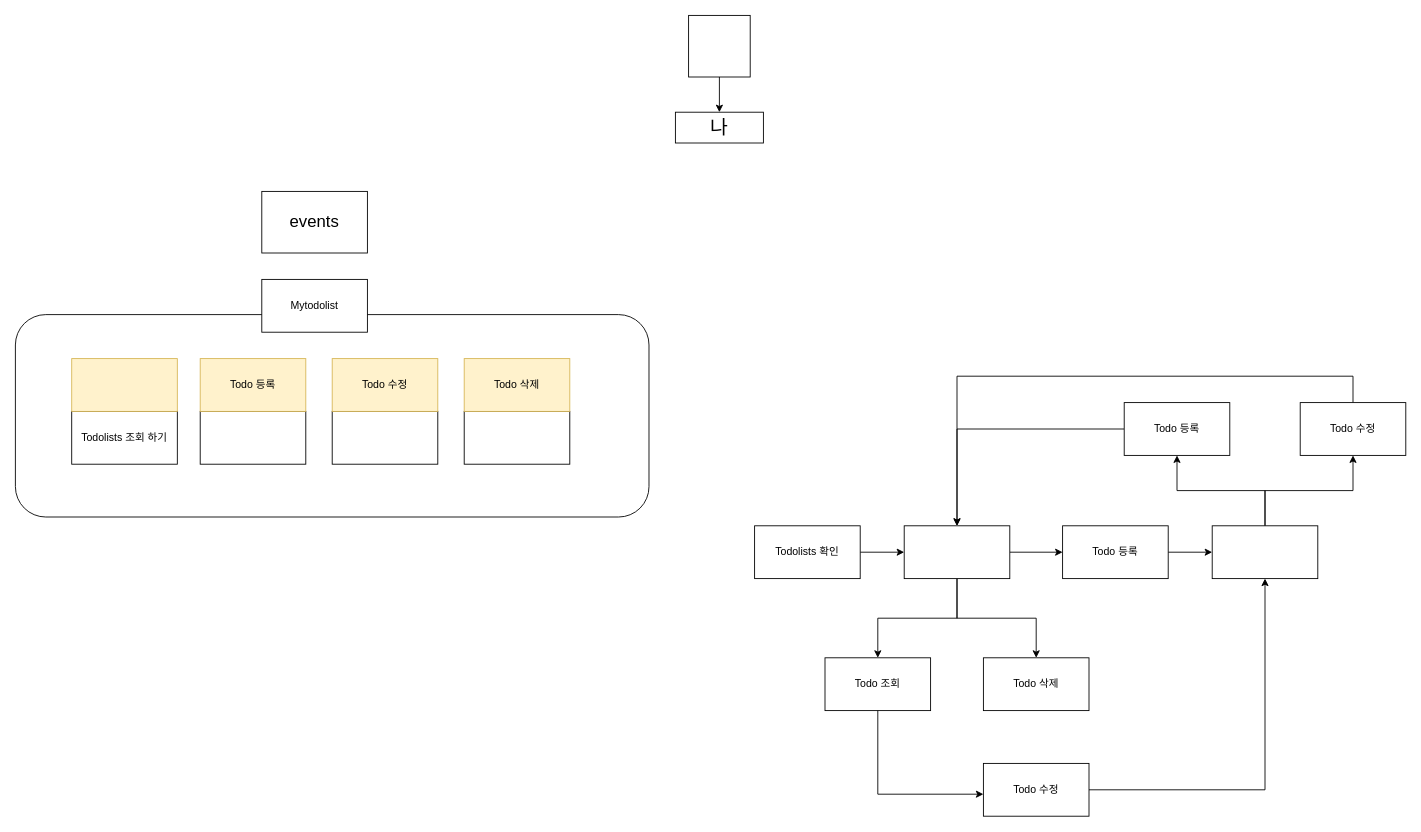
Some shapes in this 1421 by 832 pixel diagram are drawn without their labels. The shapes that lost their labels are listed below. From the top down, each one's centre as x and y in pixels, then its label:
(x=719, y=46): actor
(x=124, y=384): Todolists 조회
(x=252, y=437): Todo 등록하기
(x=384, y=437): Todo 수정하기
(x=516, y=437): Todo 삭제하기
(x=956, y=552): Todolists
(x=1264, y=552): todo datetodo tododatecreat writername
